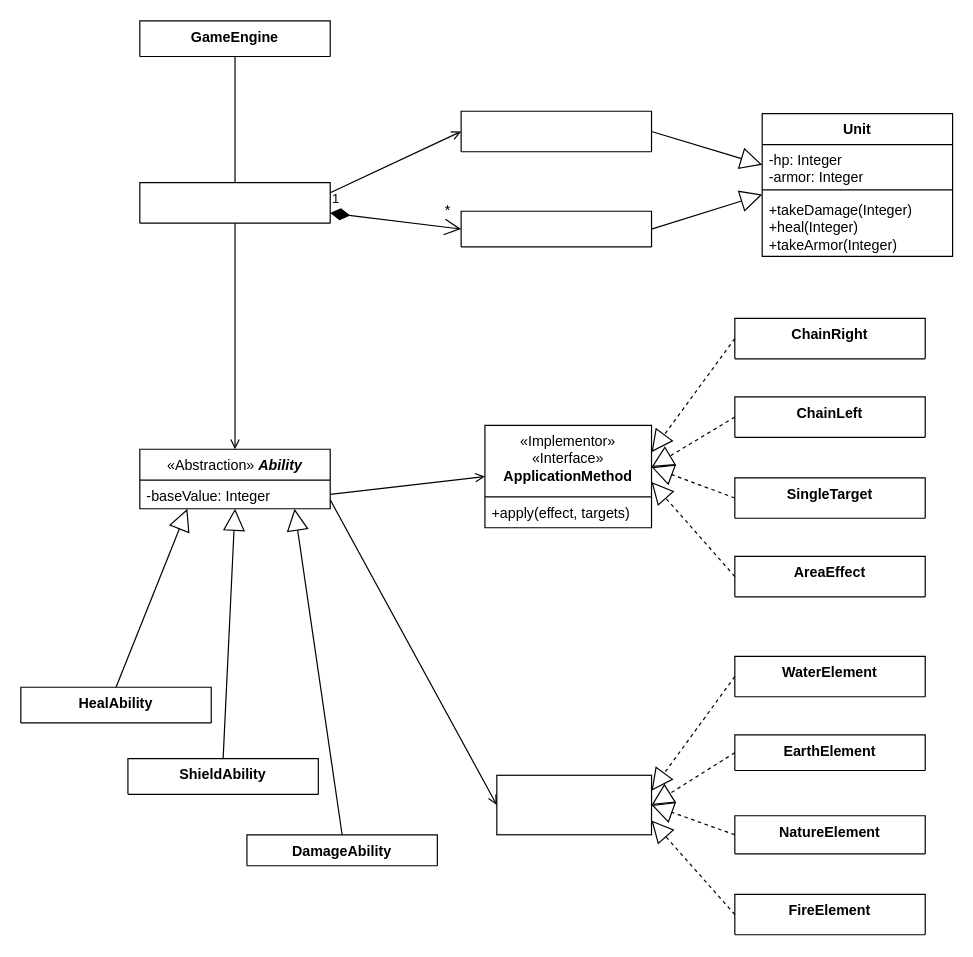
The diagram is 973 pixels wide and 957 high, and some of its shapes have lost their labels. Each missing label, with the centre of its shape:
BattleController: the point at 234,202
Enemy: the point at 556,228
Player: the point at 556,131
«Interface» Element: the point at 574,804
